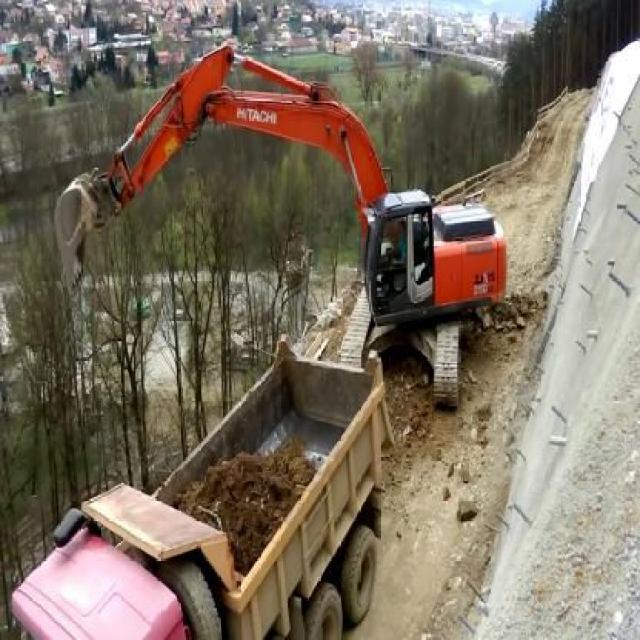Dump Truck: (10, 330, 395, 639)
Excavator: (51, 40, 507, 409)
